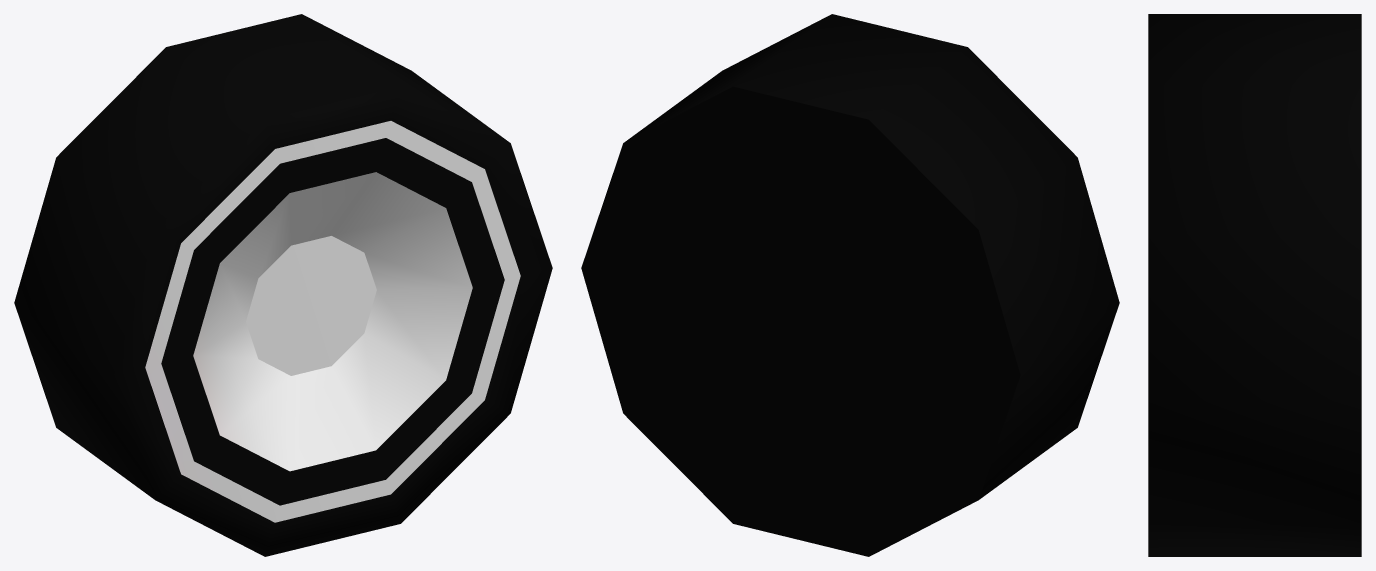
The model's file is Whell_4.fbx.
3 views of the same model, side by side, from view 1: azimuth 30°, elevation 25°; view 2: azimuth 150°, elevation 25°; view 3: azimuth 270°, elevation 25° (orthographic). The views are drawn at different scales.
Visible parts, largest first — view 1: Whell_4; view 2: Whell_4; view 3: Whell_4.
Boxes of the visible parts, left/top/right/bottom form: Whell_4: left=14, top=14, right=552, bottom=556; Whell_4: left=581, top=14, right=1119, bottom=556; Whell_4: left=1148, top=14, right=1361, bottom=556.
Size of the model in its own units: 75.37 by 71.68 by 29.43.
1 material, 1 textured.
